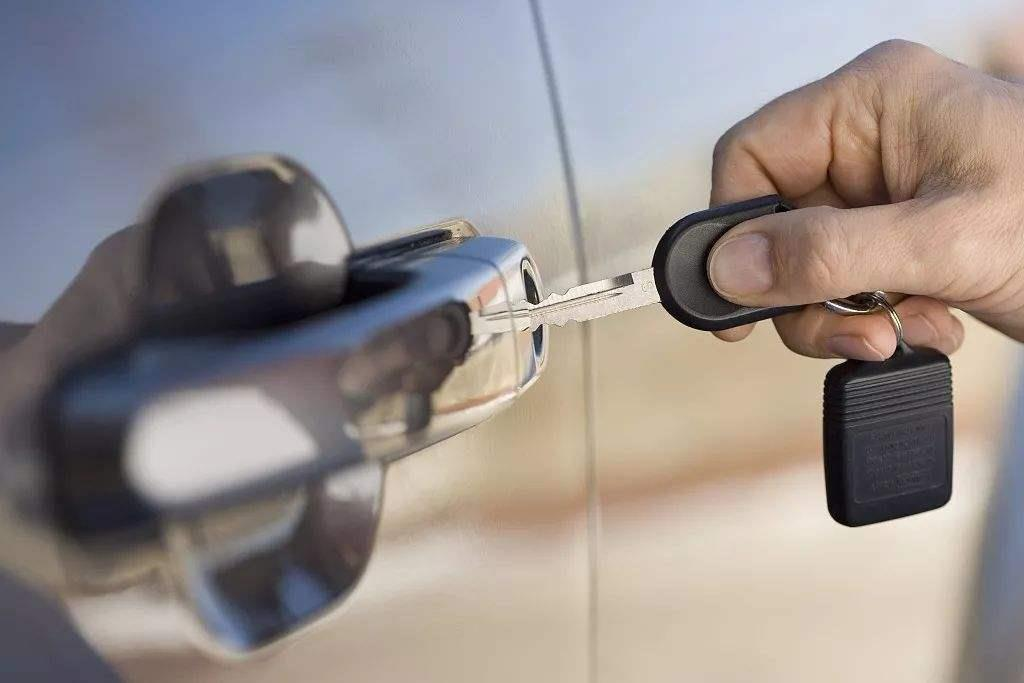key: (537, 198, 840, 340)
